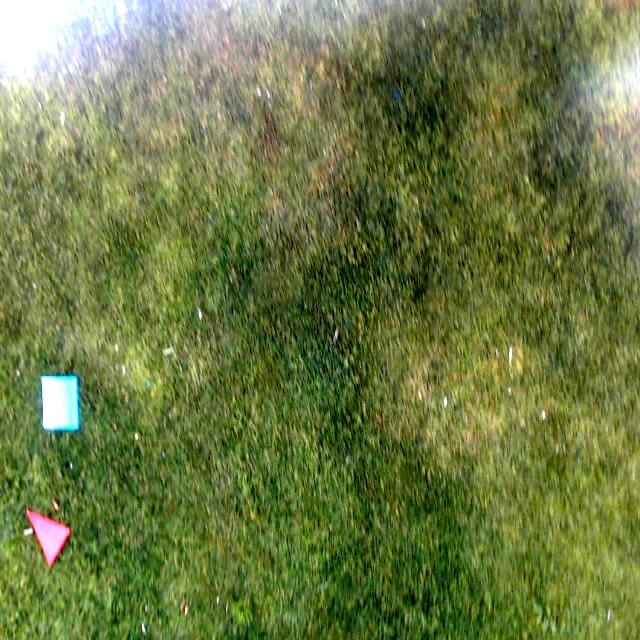blue_square: (41, 376, 79, 430)
red_triangle: (25, 509, 71, 566)
